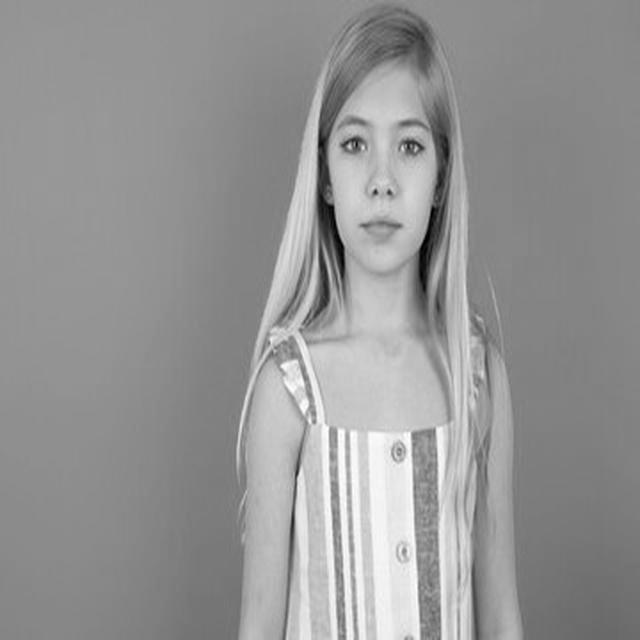Neutral: (328, 66, 436, 274)
